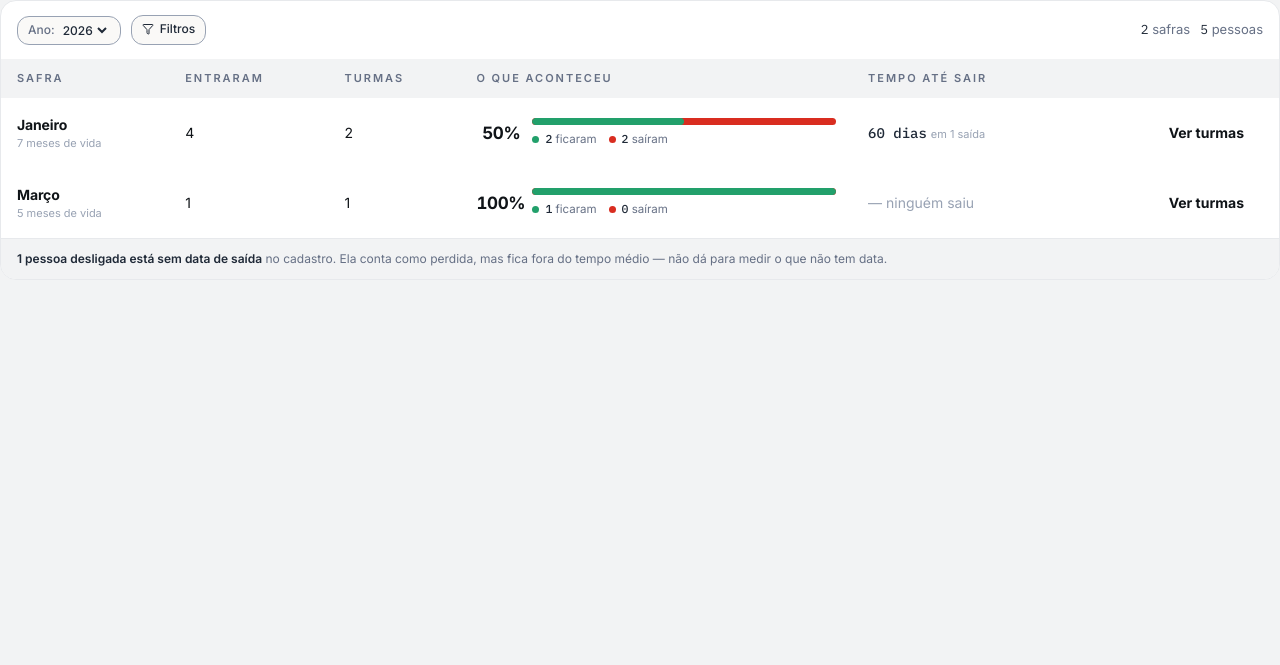
Safra › volta para a lista de safras
This screenshot has width=1280, height=665.
What coordinates should you click on to do the following:
click the button "Ver turmas" in the row of "Janeiro"
I would click on:
 (1206, 133)
Its box is [1150,110,1263,156].
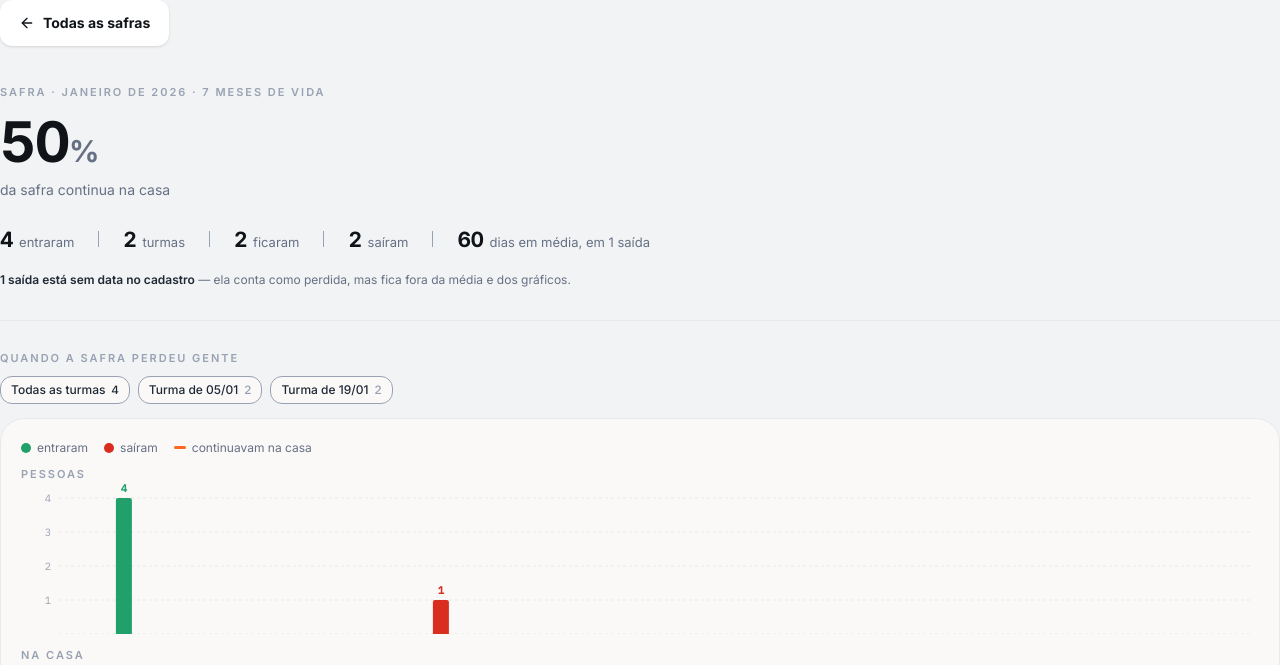
What coordinates should you click on to do the following:
click the button "Todas as safras"
I would click on:
 (85, 23)
Its box is [0,0,169,46].
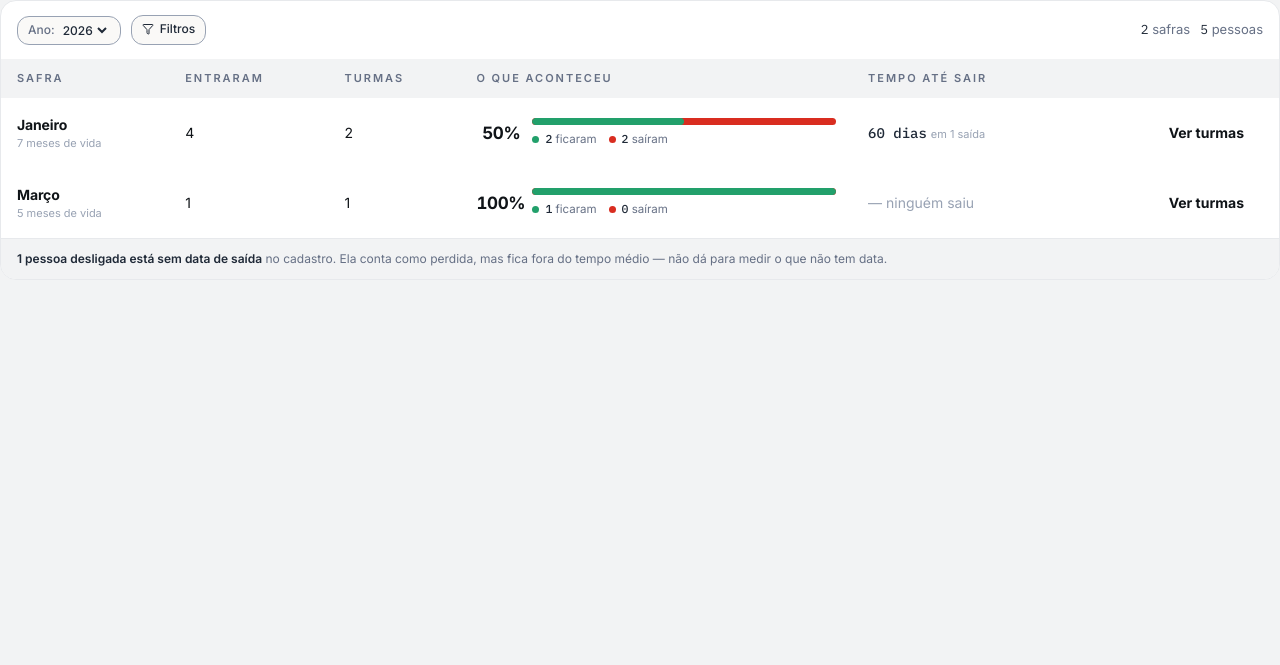
Expected: the text "Março" is shown, [17,186,60,203]
Expected: the text "da safra continua na casa" is gone
